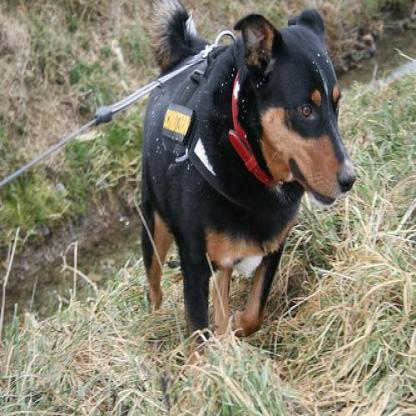Appenzeller: (139, 0, 355, 364)
